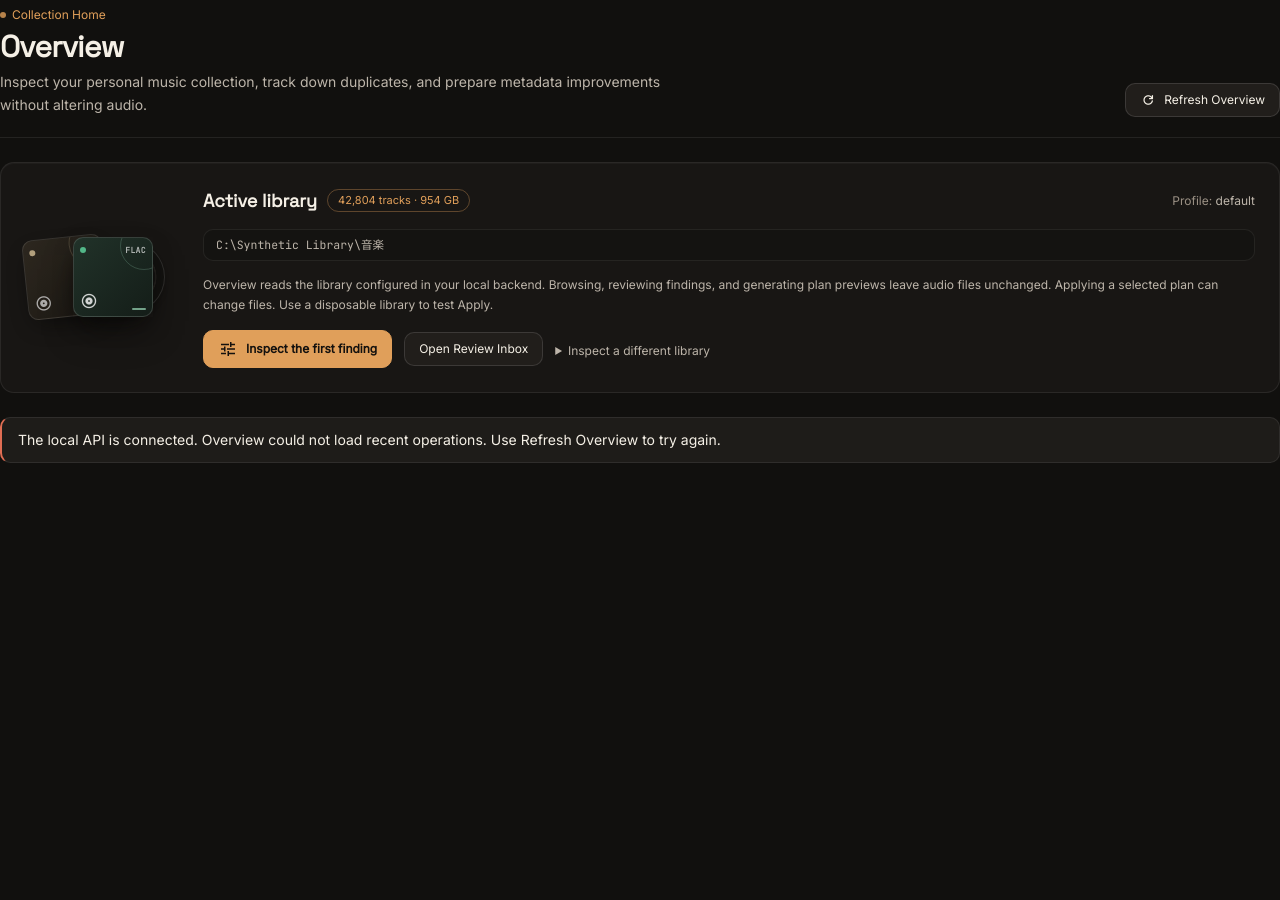
it: Overview first run › keeps the configured library visible when only History fails and refreshes on retry
Expected: the message shows "The local API is connected. Overview could not load recent operations.", 18,431 -> 721,448
Expected: the text "C:\\Synthetic Library\\音楽" is shown, 203,228 -> 1255,261
Click the button "Refresh Overview". click: [1203, 100]
box: 1125,82 -> 1279,116
(page scrolled)
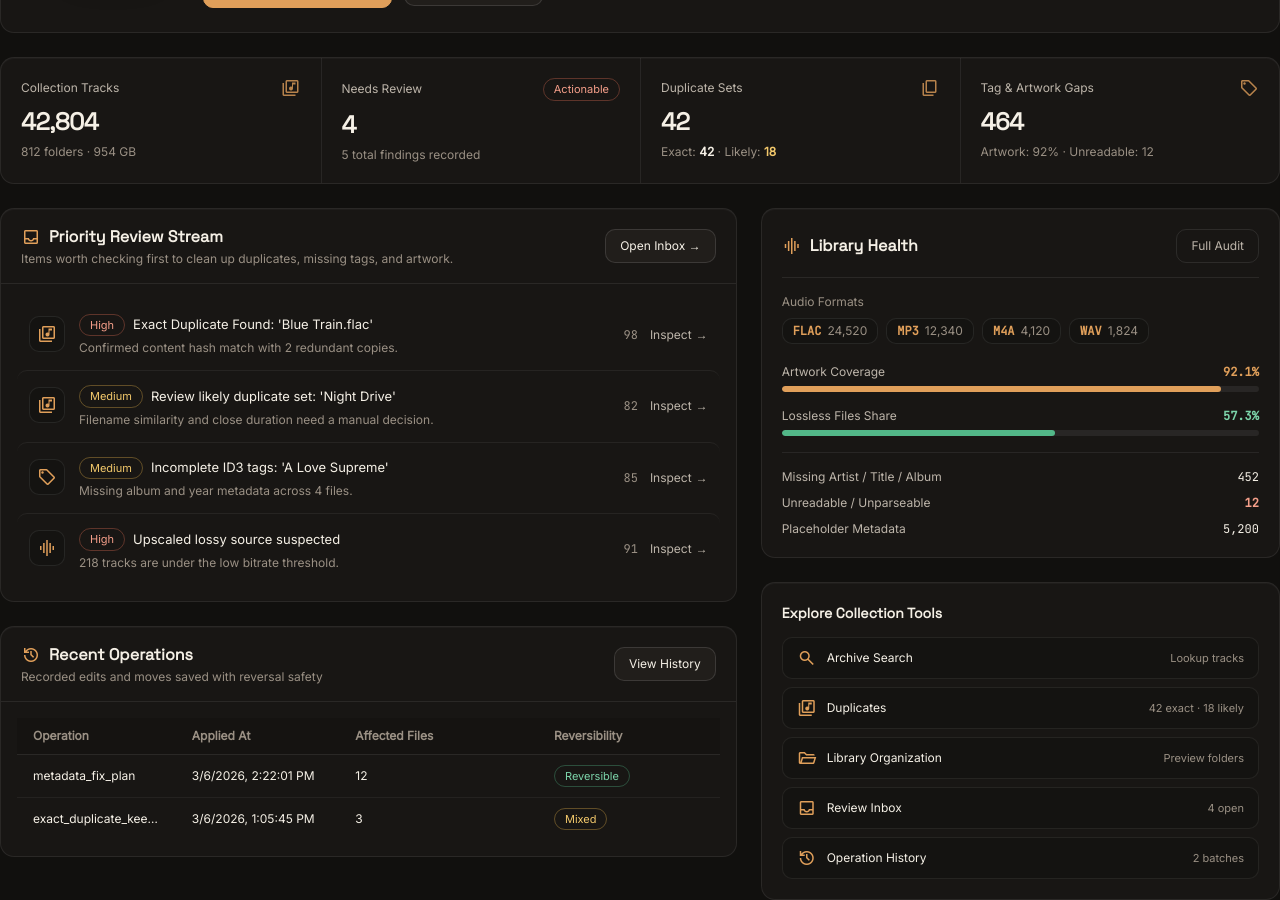
Expected: the heading "Recent Operations" is shown, 21,643 -> 193,667
Expected: the message is gone
